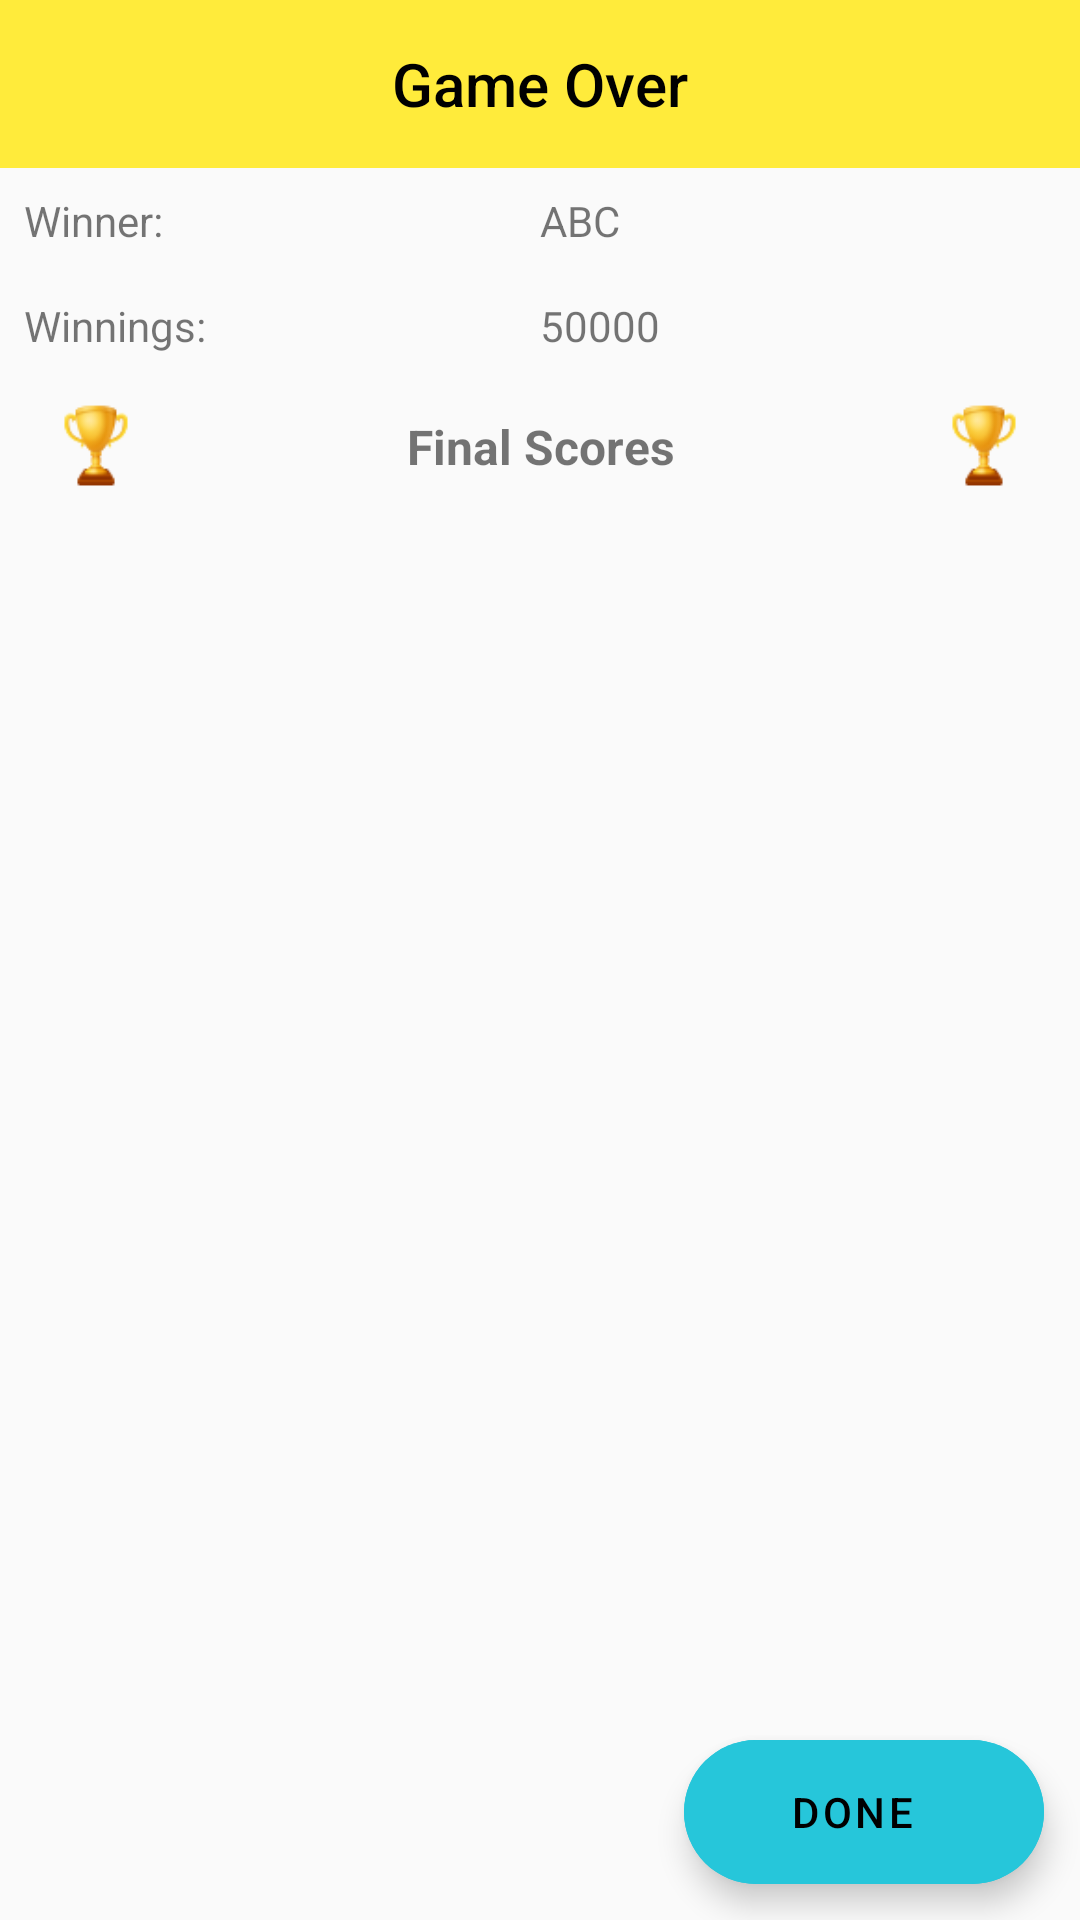

Screen size 1080w x 1920h. Icon name, then its center in pixels as point (x, y):
trophy: point (96, 445), point (984, 445)
